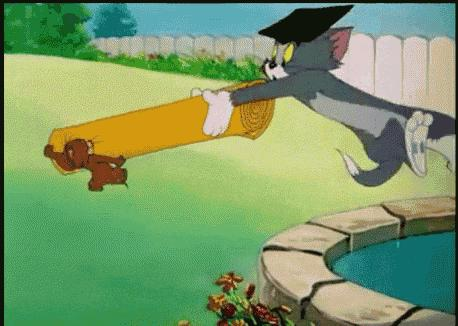jerry: (43, 138, 130, 193)
